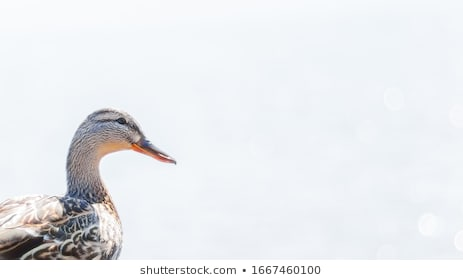duck: (1, 110, 195, 261)
